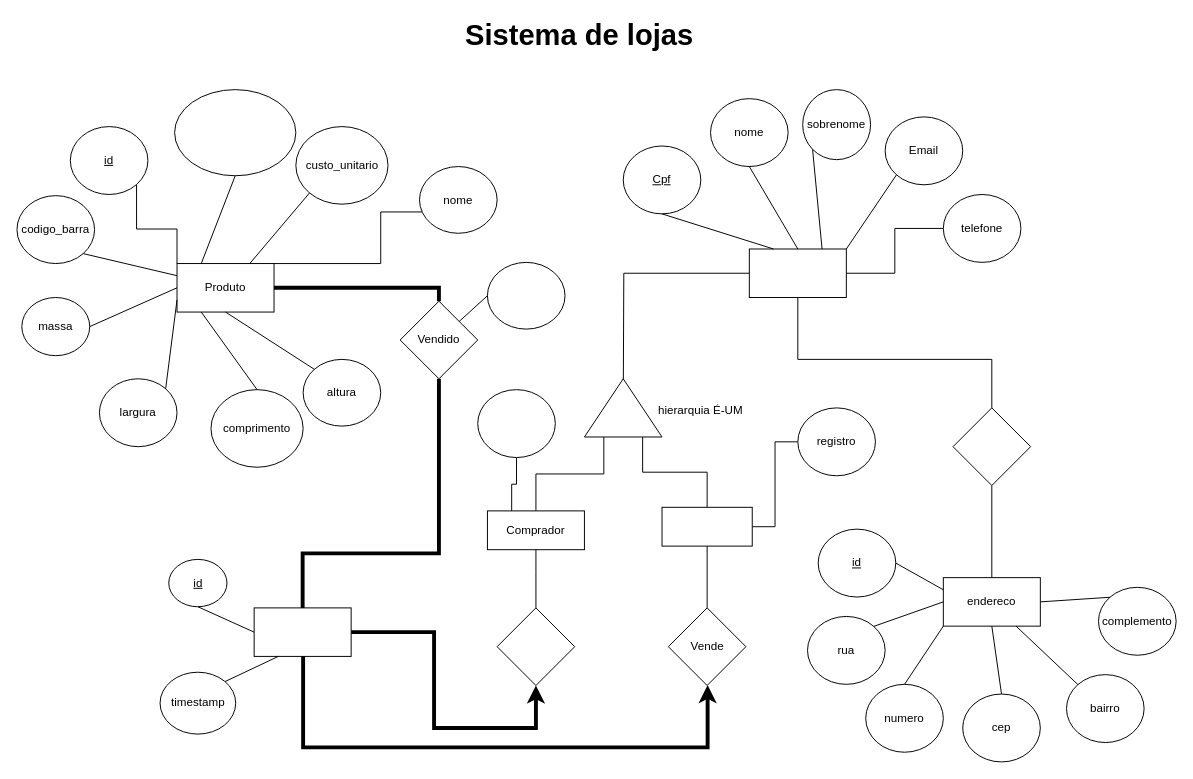
Image size: 1193x779. Some labels were removed from this diagram. The box of each missing label's shape, as (x1, y1, x2, y2) in pixels:
cartao: (477, 389, 555, 458)
Compra: (496, 607, 575, 685)
fabricacao_ timestamp: (174, 89, 296, 176)
Mora_Em: (952, 407, 1031, 485)
Pedido: (253, 607, 351, 656)
quantidade: (486, 261, 565, 329)
usuario: (748, 248, 846, 297)
Vendedor: (661, 506, 752, 546)
É um: (583, 378, 662, 437)
